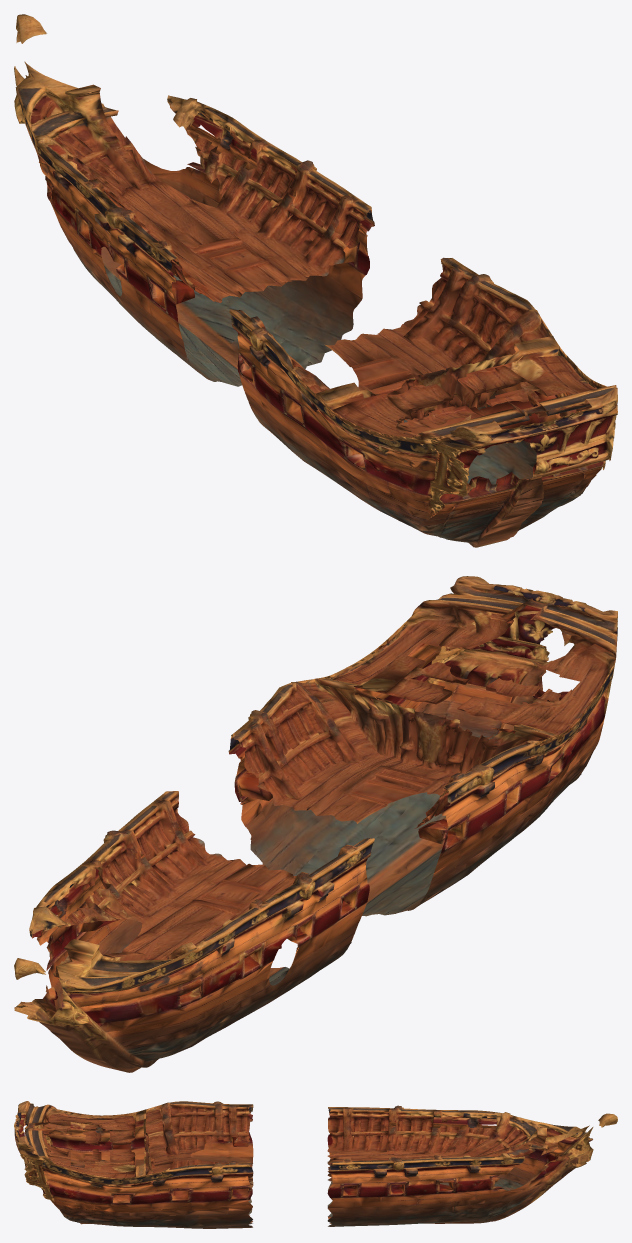
The model's file is crash-galleon-painted.glb.
3 views of the same model, one above another, from view 1: azimuth 30°, elevation 25°; view 2: azimuth 150°, elevation 25°; view 3: azimuth 270°, elevation 25° (orthographic). The views are drawn at different scales.
Visible parts, largest first — view 1: Royal_hull_LOD0; view 2: Royal_hull_LOD0; view 3: Royal_hull_LOD0.
Part boxes in pixels (<box>): Royal_hull_LOD0: <box>14,14,617,547</box>; Royal_hull_LOD0: <box>14,576,617,1072</box>; Royal_hull_LOD0: <box>14,1101,617,1228</box>.
Size of what is drawn, in the model's own units: 42.65 by 31.05 by 159.
Materials: 1 (1 with a texture image).
